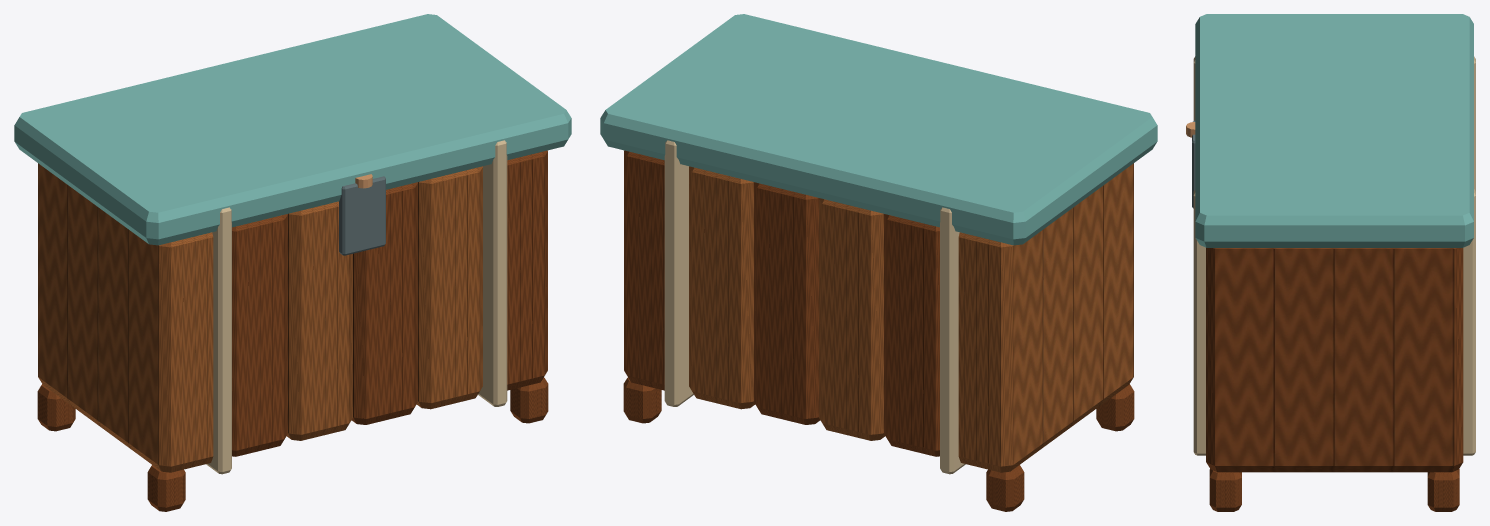
Rendered from ocean-raft-settlement-ocean-raft-settlement-lashed-sto-27e13a42__28919.glb.
The picture shows the model from 3 angles, left to right: view 1: azimuth 30°, elevation 25°; view 2: azimuth 150°, elevation 25°; view 3: azimuth 270°, elevation 25°; orthographic projection.
Parts seen in each view (by area): view 1: teal, pale, wood, rope, iron; view 2: teal, pale, wood, rope; view 3: teal, wood, rope.
Part boxes in pixels (<box>): teal: <box>14,14,571,245</box>; pale: <box>38,163,482,472</box>; wood: <box>37,150,548,511</box>; rope: <box>206,140,507,474</box>; iron: <box>339,176,385,255</box>; teal: <box>600,14,1157,245</box>; pale: <box>689,163,1133,472</box>; wood: <box>623,150,1134,511</box>; rope: <box>664,140,965,474</box>; teal: <box>1195,14,1473,247</box>; wood: <box>1206,247,1463,511</box>; rope: <box>1193,56,1475,455</box>.
Bounding box in the file's own units: 1.36 × 0.9399 × 0.811.
6 materials, 2 textured.
